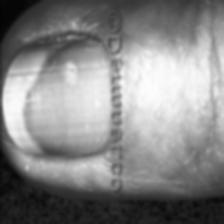Toxin: (2, 34, 117, 162)
